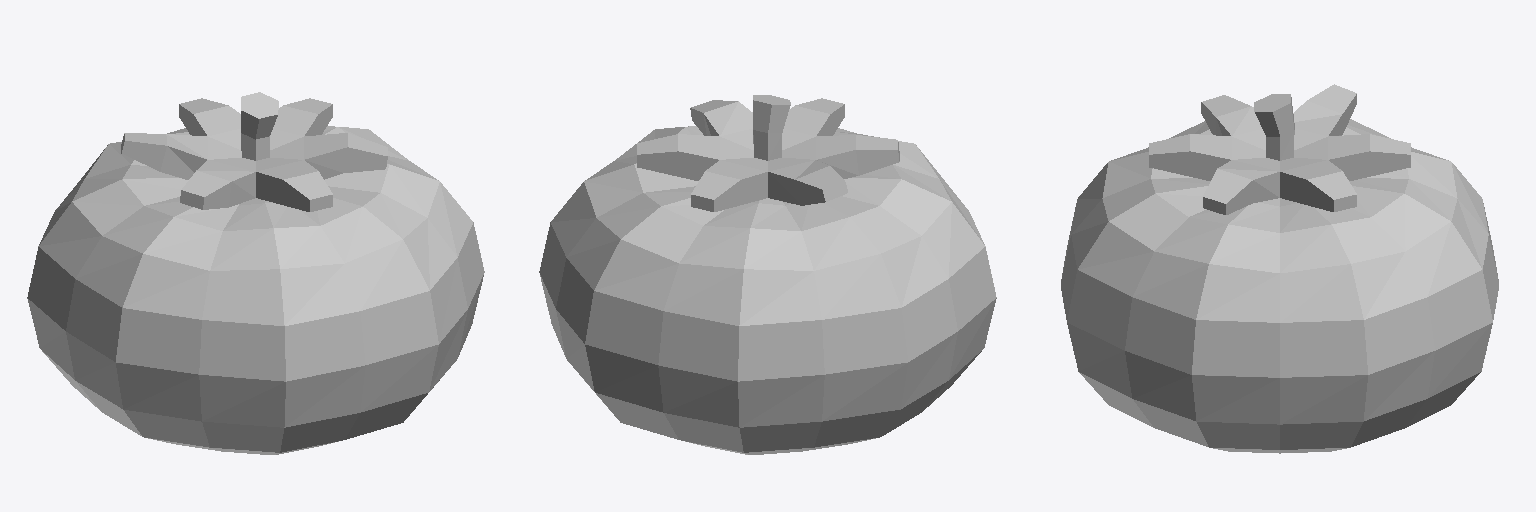
File: Tomato.obj
3 views of the same model, side by side, from view 1: azimuth 30°, elevation 25°; view 2: azimuth 150°, elevation 25°; view 3: azimuth 270°, elevation 25° (orthographic).
Parts seen in each view (by area): view 1: Tomato; view 2: Tomato; view 3: Tomato.
Boxes of the visible parts, x1,y1,x2,y2 form: Tomato: [27, 92, 484, 454]; Tomato: [539, 95, 996, 454]; Tomato: [1061, 84, 1498, 453].
Bounding box in the file's own units: 2 × 1.58 × 2.